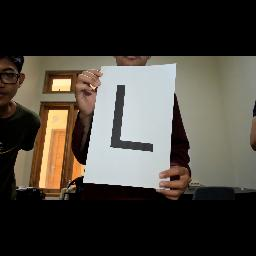l: (97, 76, 165, 168)
